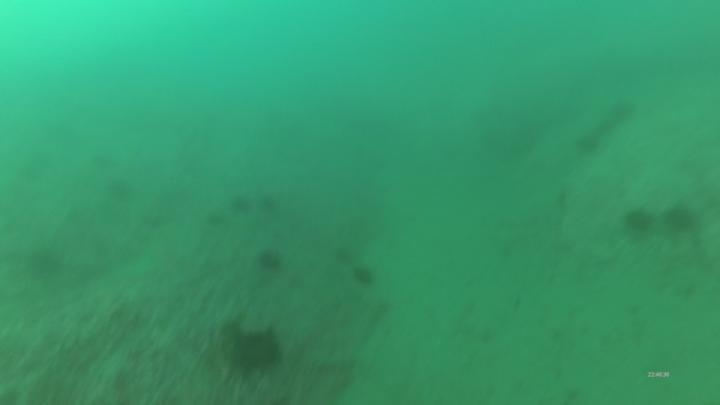echinus: (229, 324, 285, 378), (27, 249, 69, 284), (661, 203, 704, 235), (625, 207, 658, 241), (603, 101, 639, 126), (254, 245, 284, 275), (103, 177, 135, 203), (350, 262, 378, 290), (575, 132, 602, 161), (229, 196, 257, 219)
